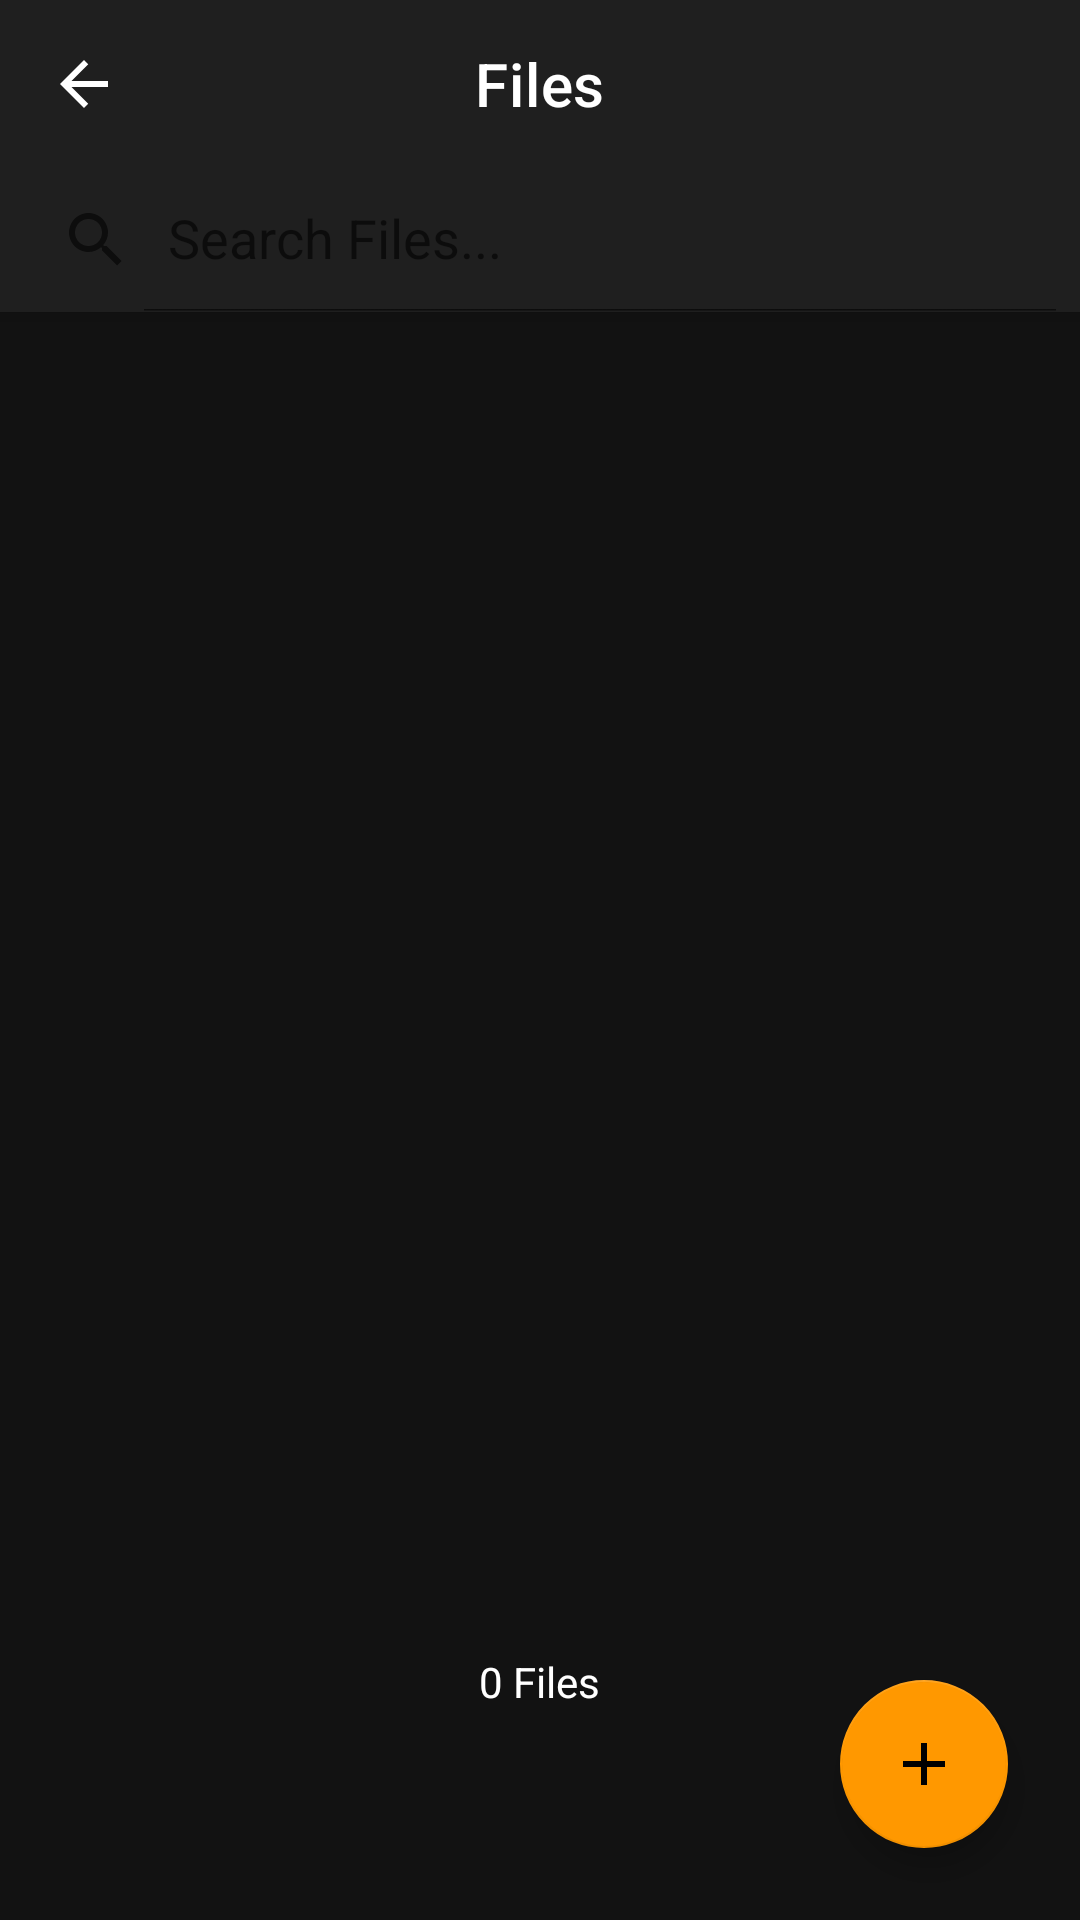

Point at icon controls on the screen. Image size 1080w x 1920h, points as (x=x, y=y).
Add File: (x=924, y=1764)
